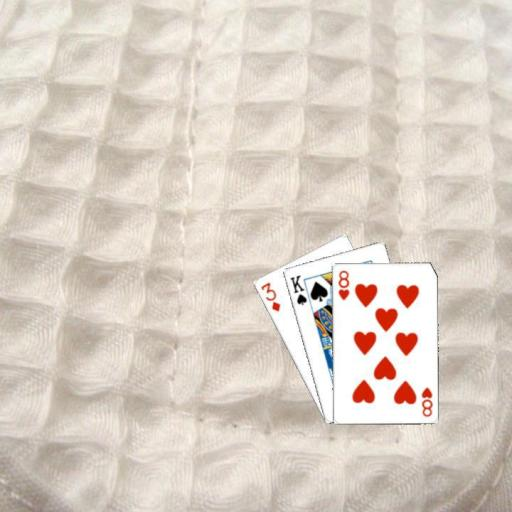3D: (258, 279, 282, 313)
8H: (334, 268, 351, 302), (418, 384, 434, 418)
KS: (286, 272, 308, 307)
